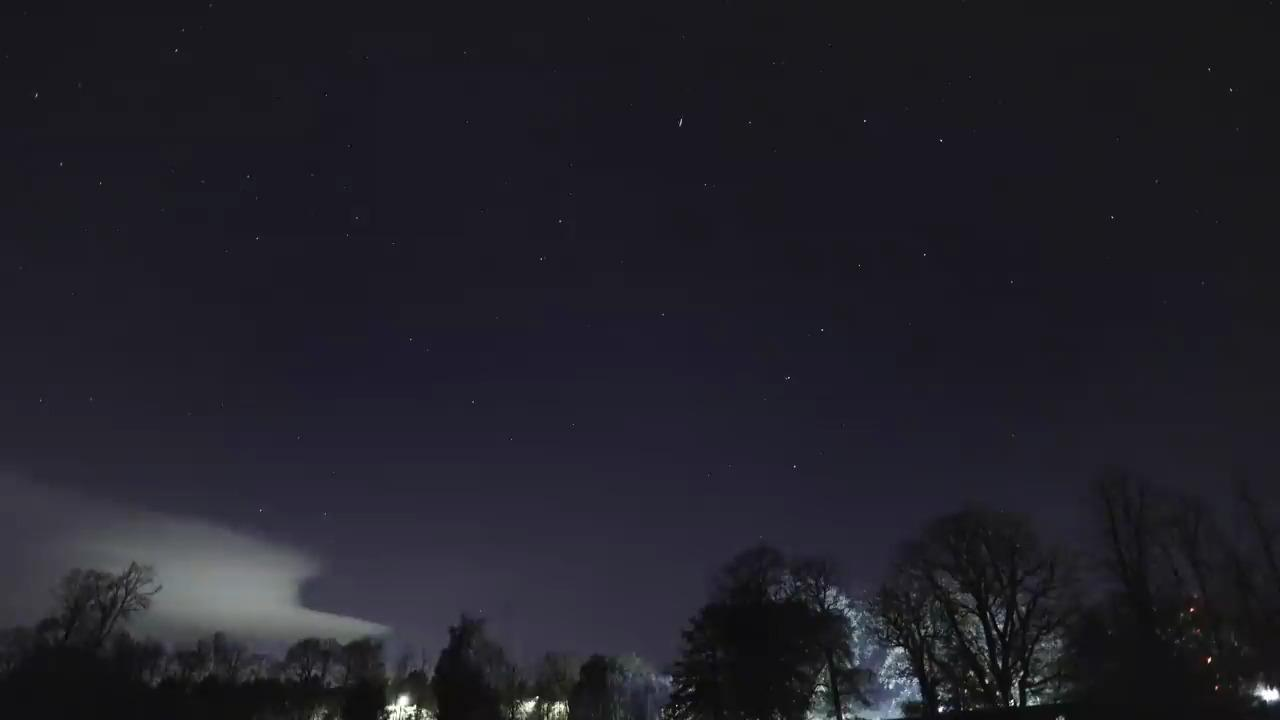meteorite: (651, 110, 709, 132)
